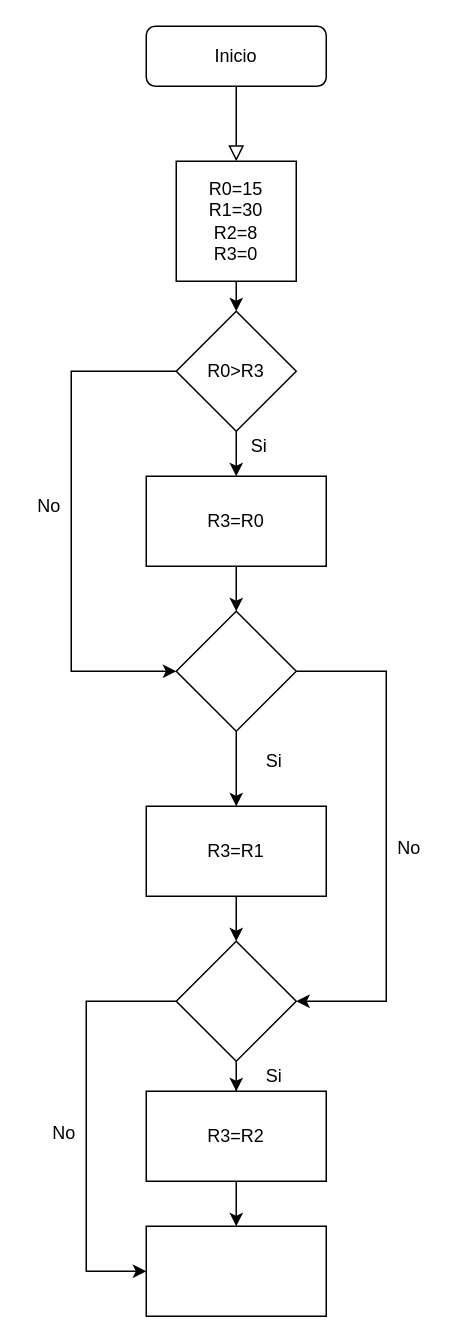
Some shapes in this 456 by 1343 pixel diagram are drawn without their labels. Here are the shapes that lost their labels. From the top down, the centre of each, then its label:
point (235, 670): R1>R3
point (235, 1000): R2>R3
point (235, 1270): Print R3
